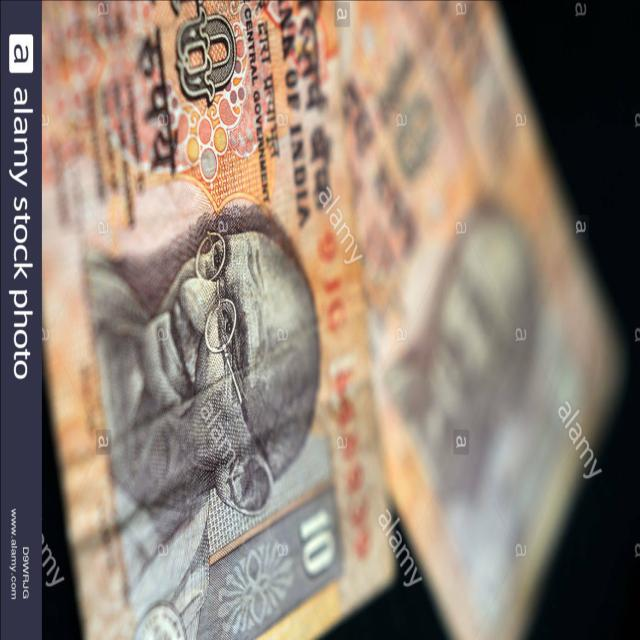10IndianRupees: (51, 5, 397, 640)
